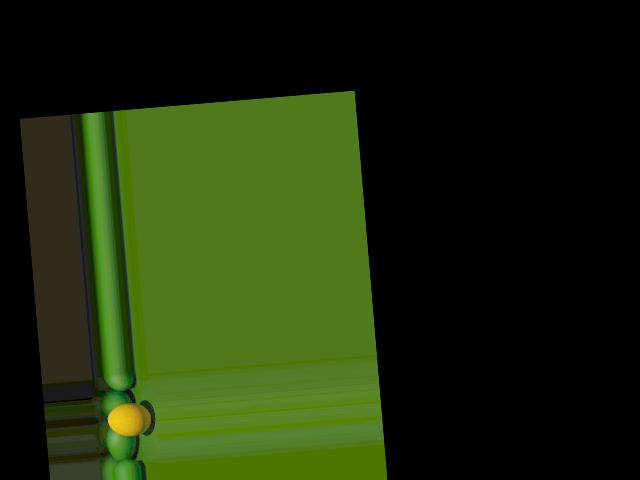egg: (107, 401, 153, 438)
